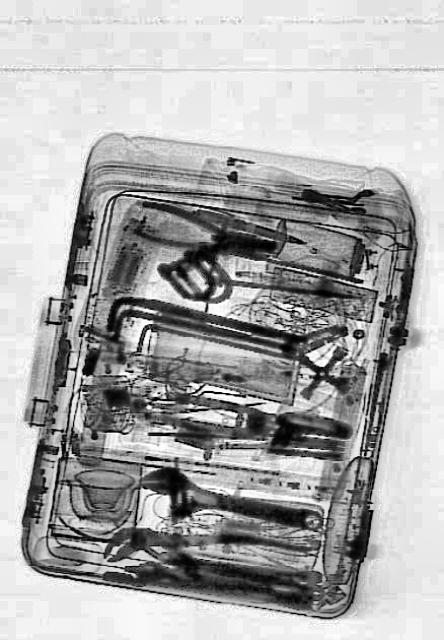Pliers: (163, 387, 351, 453), (134, 196, 276, 272)
Wrench: (136, 457, 326, 551)
